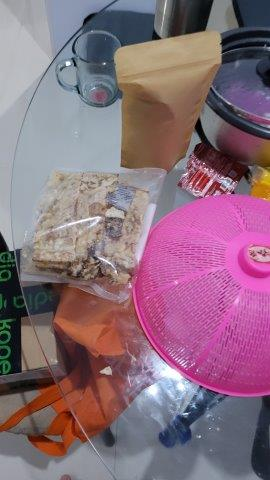plastik: (21, 167, 164, 299)
